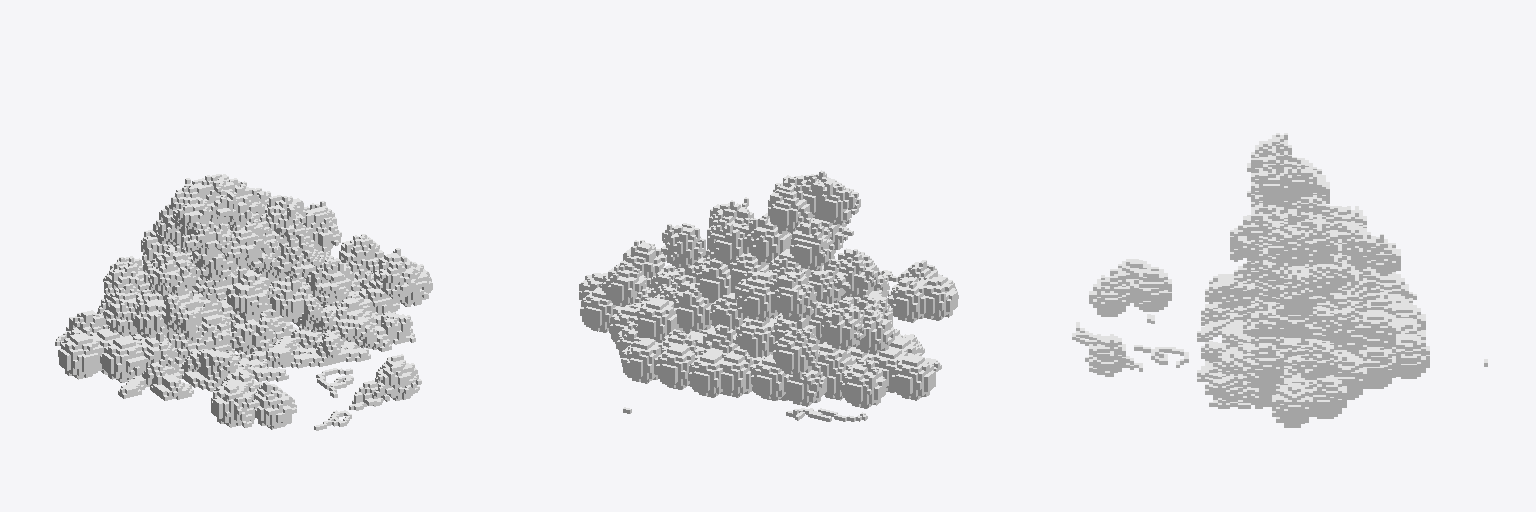
The model's file is Title-1.obj.
3 views of the same model, side by side, from view 1: azimuth 30°, elevation 25°; view 2: azimuth 150°, elevation 25°; view 3: azimuth 270°, elevation 25° (orthographic).
Parts seen in each view (by area): view 1: object 1; view 2: object 1; view 3: object 1.
Boxes of the visible parts, x1,y1,x2,y2 form: object 1: [55, 174, 432, 430]; object 1: [579, 170, 958, 421]; object 1: [1072, 133, 1487, 427].
Size of the model in its own units: 9.9 by 4.8 by 10.